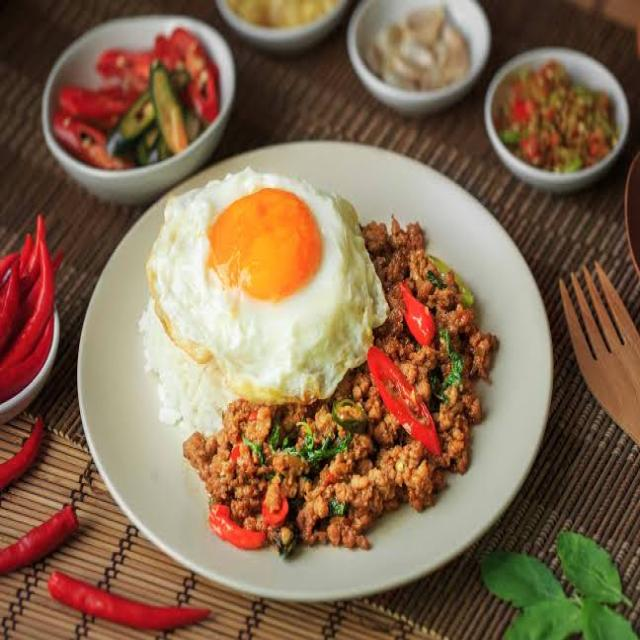basil chicken rice: (124, 170, 518, 540)
carb: (154, 322, 232, 449)
meat: (371, 222, 497, 477), (202, 407, 431, 547)
vegetable: (284, 426, 343, 470)
